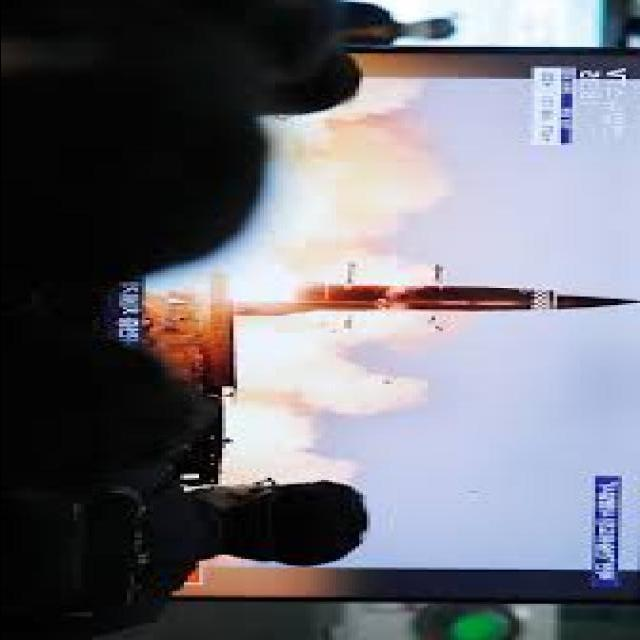Missile: (281, 274, 638, 318)
